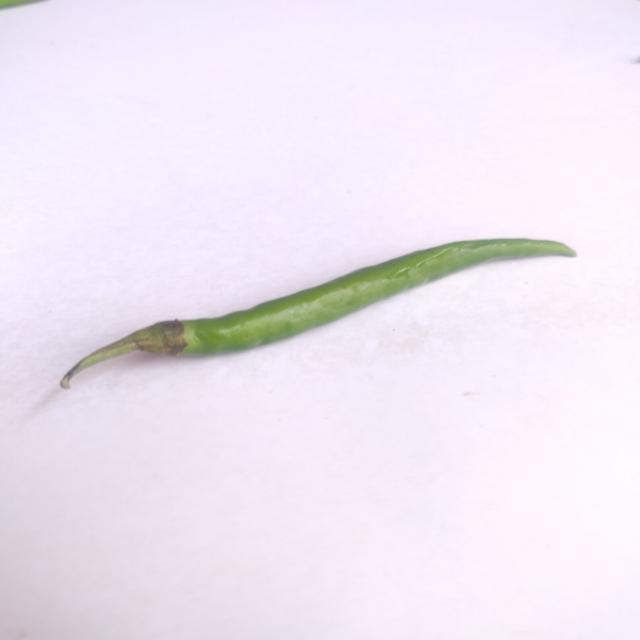Green Chilly: (47, 220, 591, 398)
